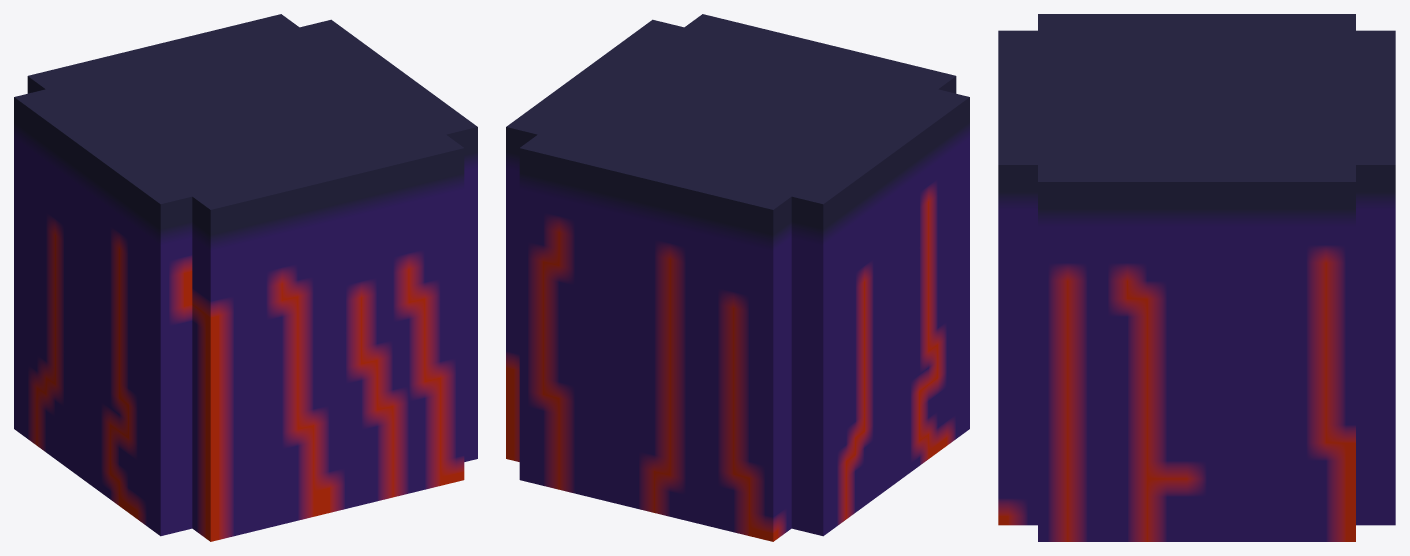
The model's file is Ground.fbx.
3 renders of one model, left to right at view 1: azimuth 30°, elevation 25°; view 2: azimuth 150°, elevation 25°; view 3: azimuth 270°, elevation 25°, orthographic. The views are drawn at different scales.
Visible parts, largest first — view 1: Ground; view 2: Ground; view 3: Ground.
Part boxes in pixels (x1,y1,x2,y2): Ground: (14,14,477,541); Ground: (506,14,969,541); Ground: (998,14,1395,541).
Bounding box in the file's own units: 20 × 20 × 20.
Materials: 1 (1 with a texture image).
